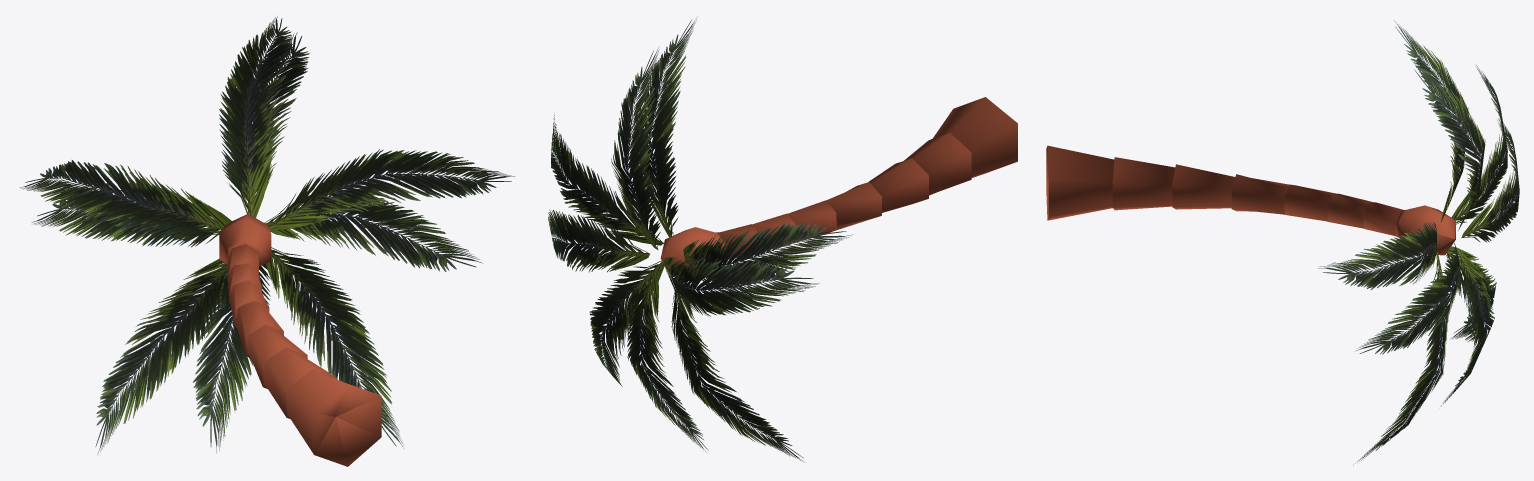
The model's file is Palm.001.fbx.
3 views of the same model, side by side, from view 1: azimuth 30°, elevation 25°; view 2: azimuth 150°, elevation 25°; view 3: azimuth 270°, elevation 25° (orthographic). The views are drawn at different scales.
Visible parts, largest first — view 1: Palm.004; view 2: Palm.004; view 3: Palm.004.
Boxes of the visible parts, x1=… form: Palm.004: x1=19, y1=16, x2=514, y2=466; Palm.004: x1=548, y1=16, x2=1017, y2=461; Palm.004: x1=1046, y1=20, x2=1519, y2=465.
Size of the model in its own units: 340 by 356 by 371.
1 material, 1 textured.
